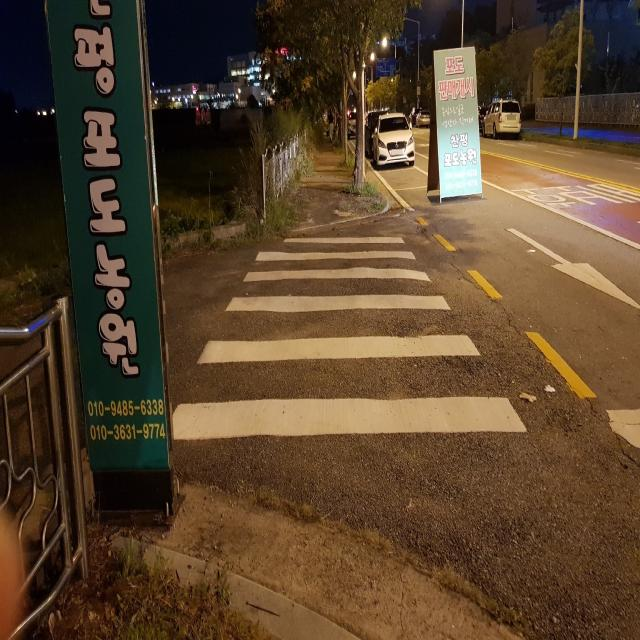횡단보도: (171, 236, 528, 440)
